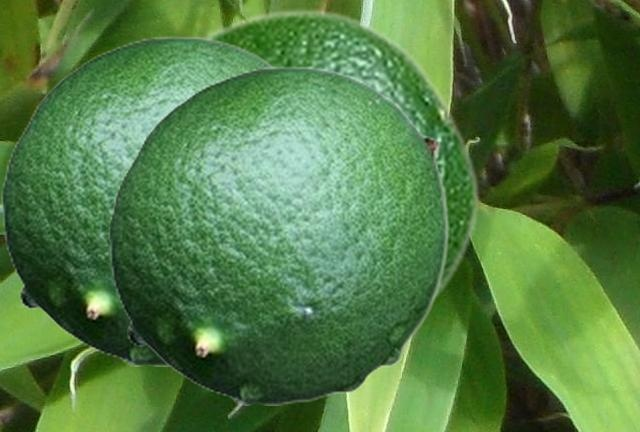calamansi: (108, 65, 448, 404), (1, 35, 278, 365), (194, 7, 480, 311)
